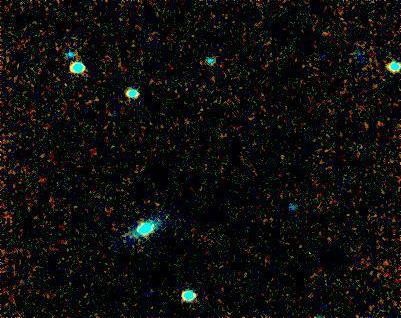star: (132, 212, 162, 242)
